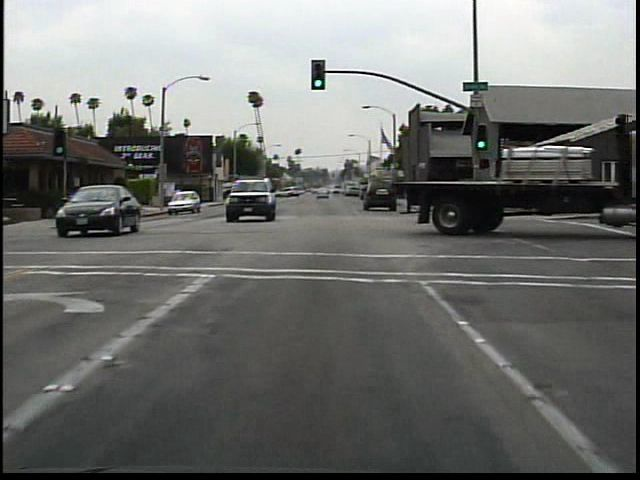person: (171, 182, 188, 206)
